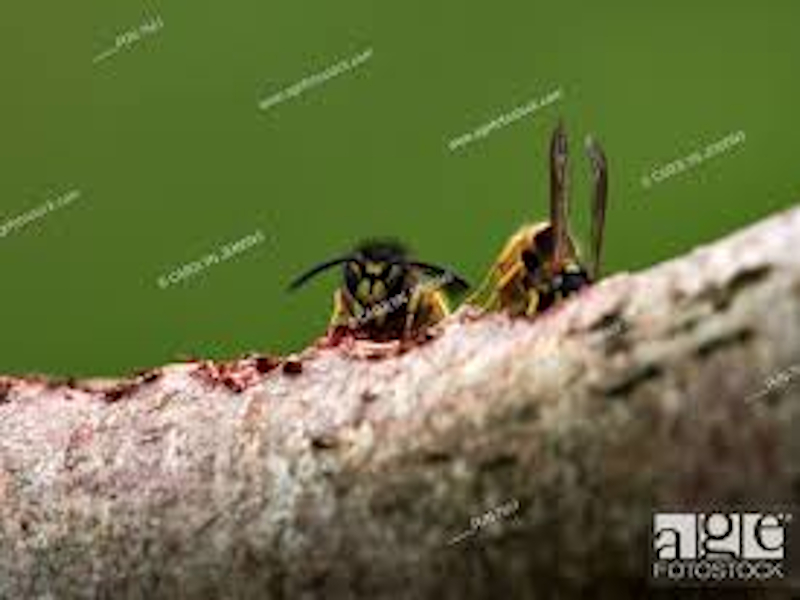chax: (465, 110, 662, 341), (307, 220, 459, 369)
